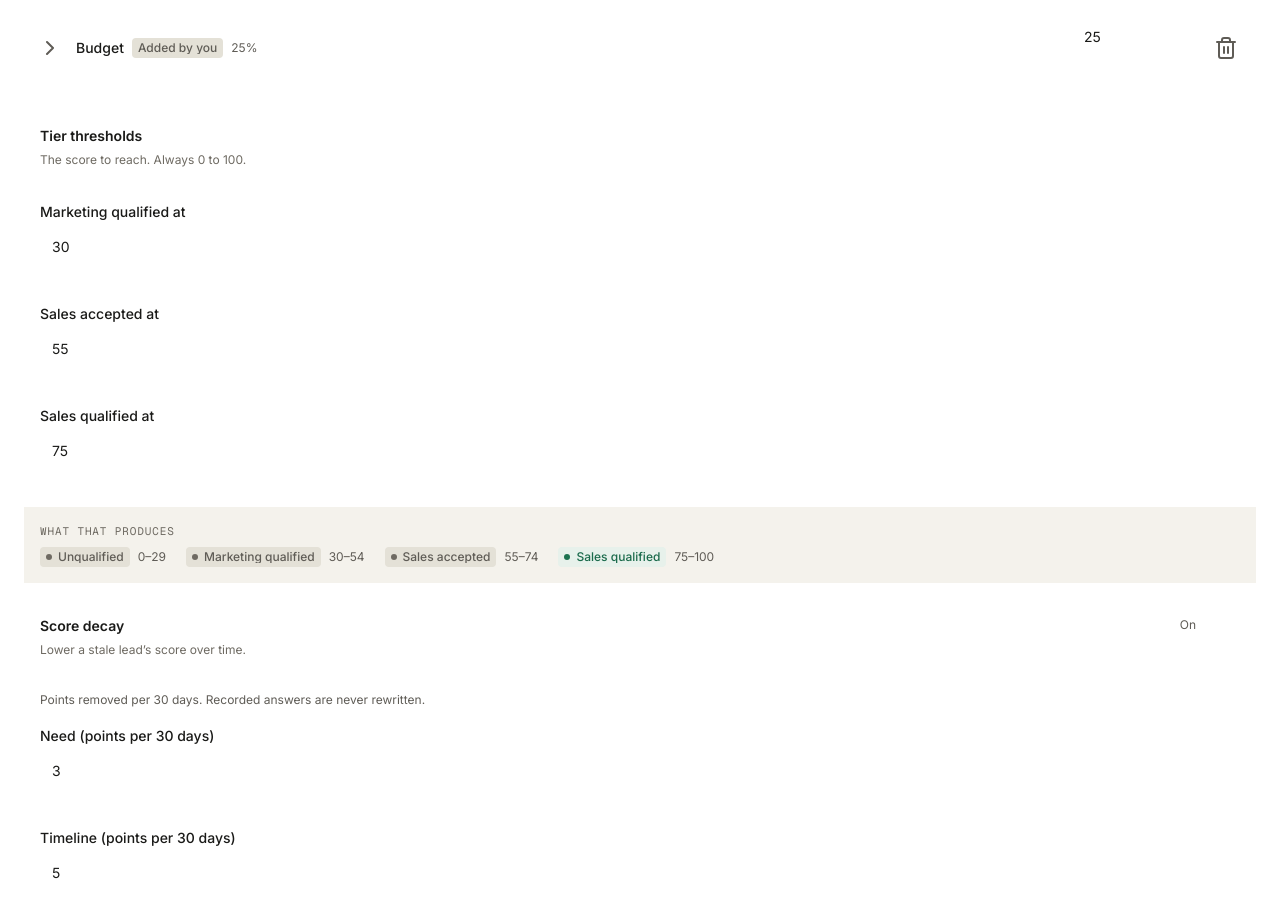
Test: the dirty / save contract › discards back to the loaded values
(page scrolled)
Replace the text in the number field labelled "Sales qualified at" with "85" at (640, 450), box [40,433,1240,467]
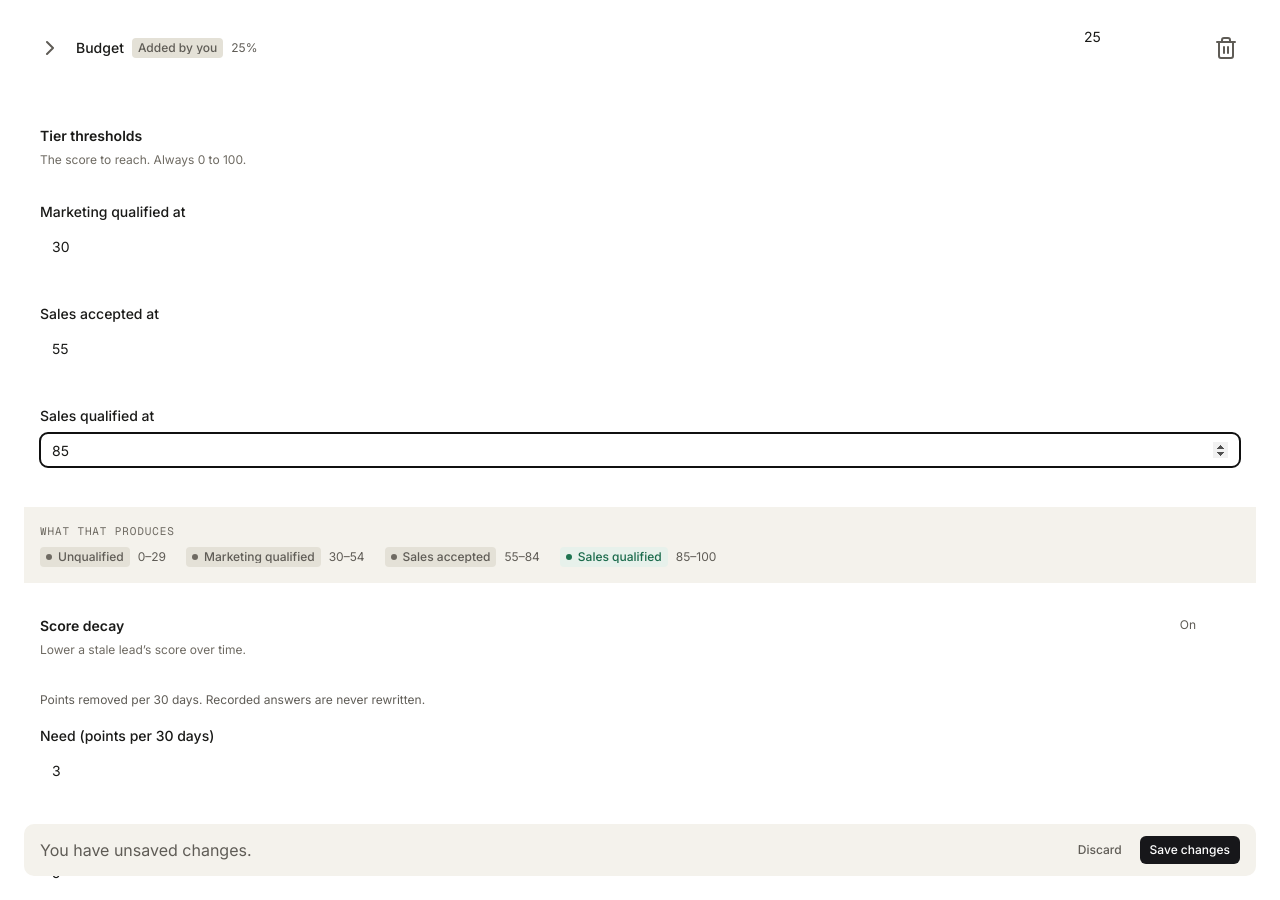
Click the button "Discard" at (1100, 850), box [1068,836,1132,864]
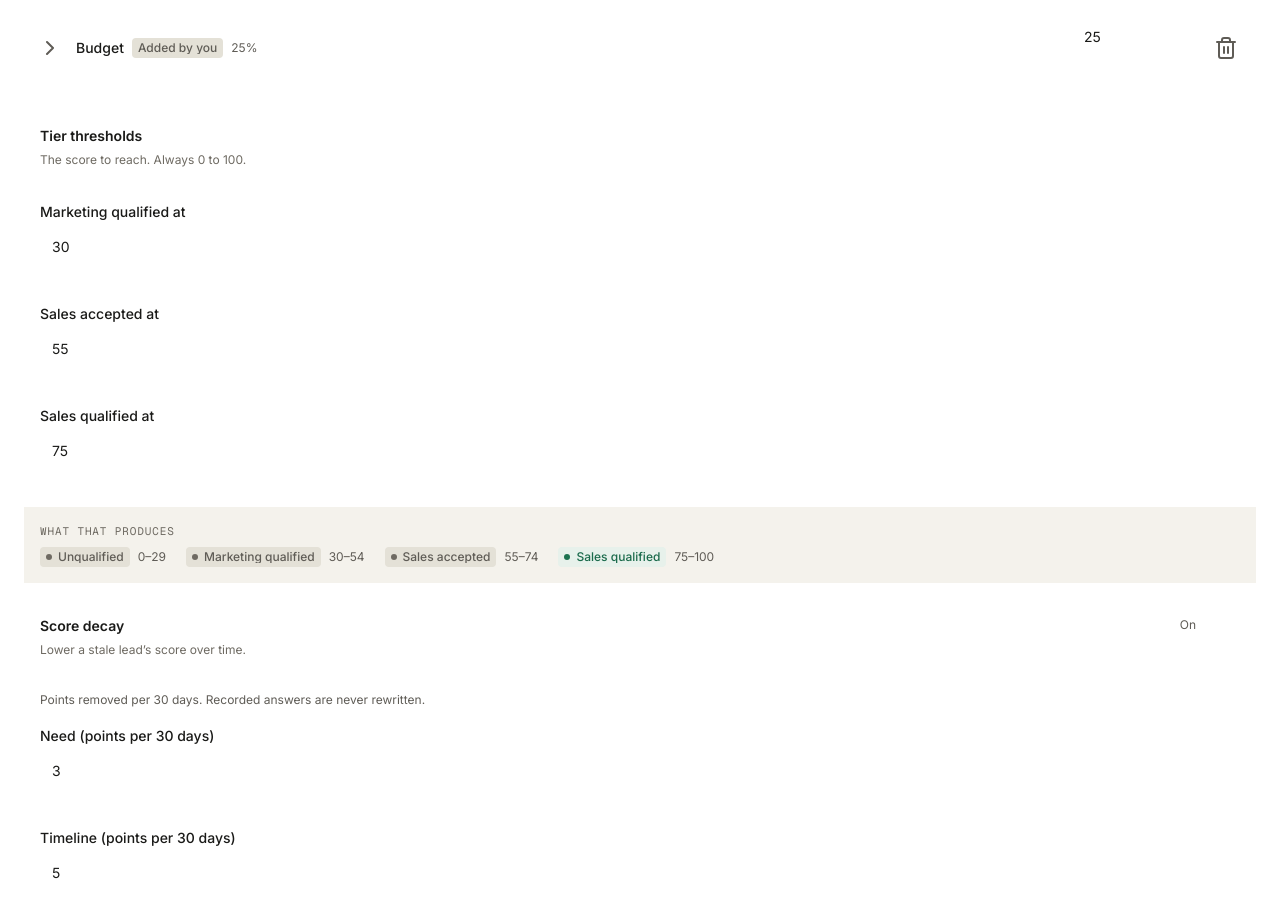
Result: the number field labelled "Sales qualified at" holds "75" at [40,433,1240,467]
Result: the button "Save changes" is gone
